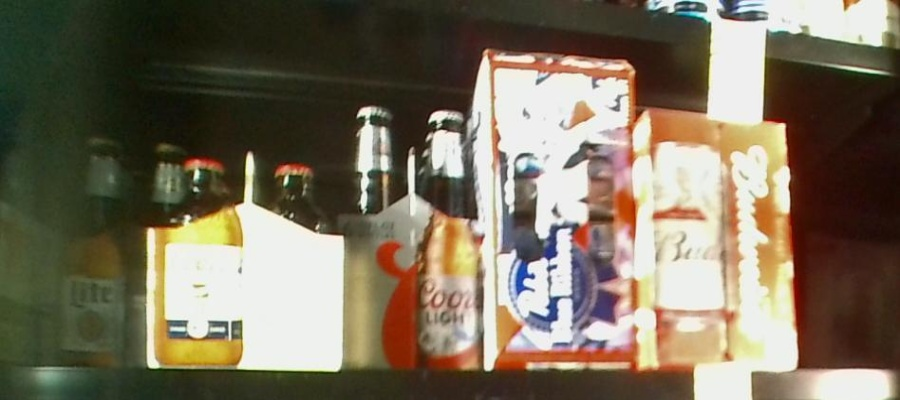bottle: (473, 49, 635, 368), (147, 141, 341, 372), (637, 106, 797, 370), (347, 103, 479, 368), (53, 138, 125, 358)
